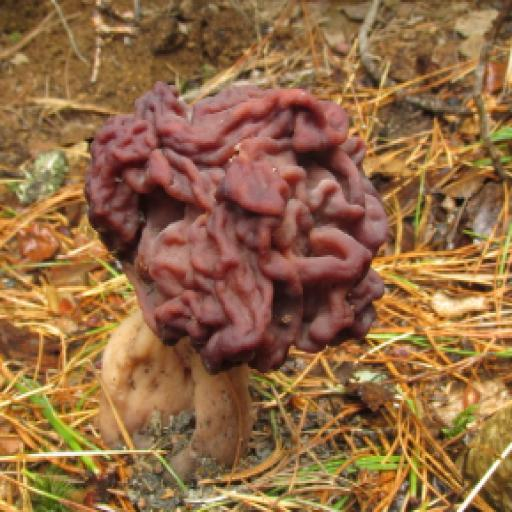mushroom: (80, 68, 379, 414)
